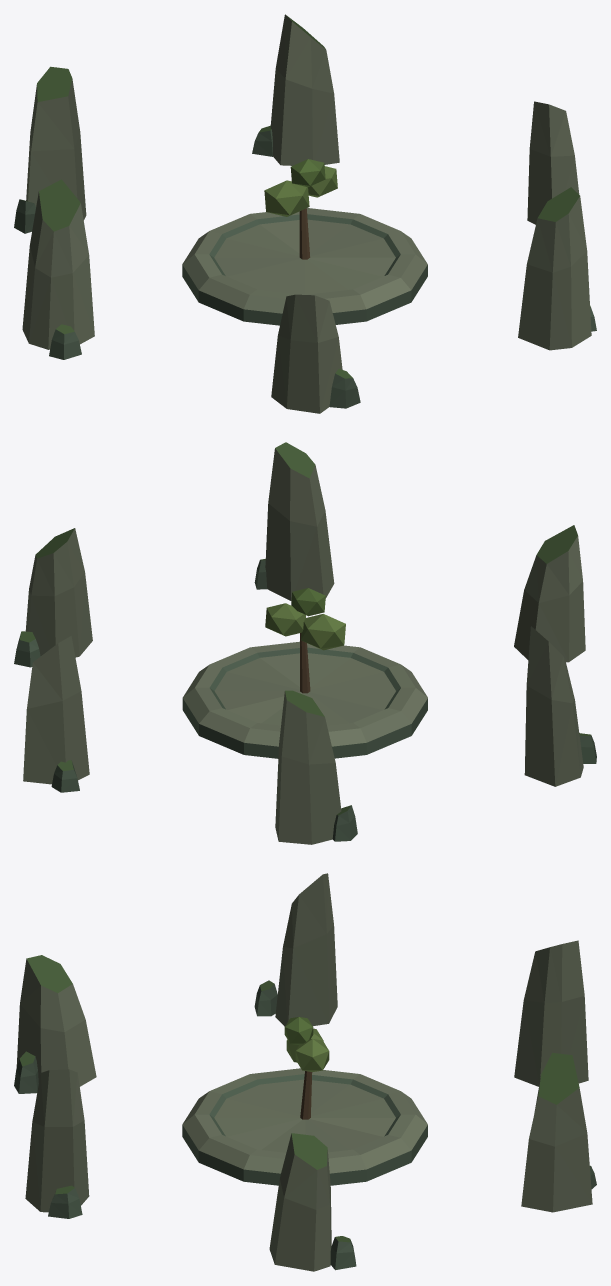
3 renders of one model, top to bottom at view 1: azimuth 30°, elevation 25°; view 2: azimuth 150°, elevation 25°; view 3: azimuth 270°, elevation 25°, orthographic.
Visible parts, largest first — view 1: forest-landmark; view 2: forest-landmark; view 3: forest-landmark.
Boxes of the visible parts, x1=… form: forest-landmark: x1=14, y1=14, x2=596, y2=413; forest-landmark: x1=14, y1=442, x2=596, y2=844; forest-landmark: x1=14, y1=873, x2=596, y2=1271.
Size of the model in its own units: 5.19 by 1.33 by 4.75.
